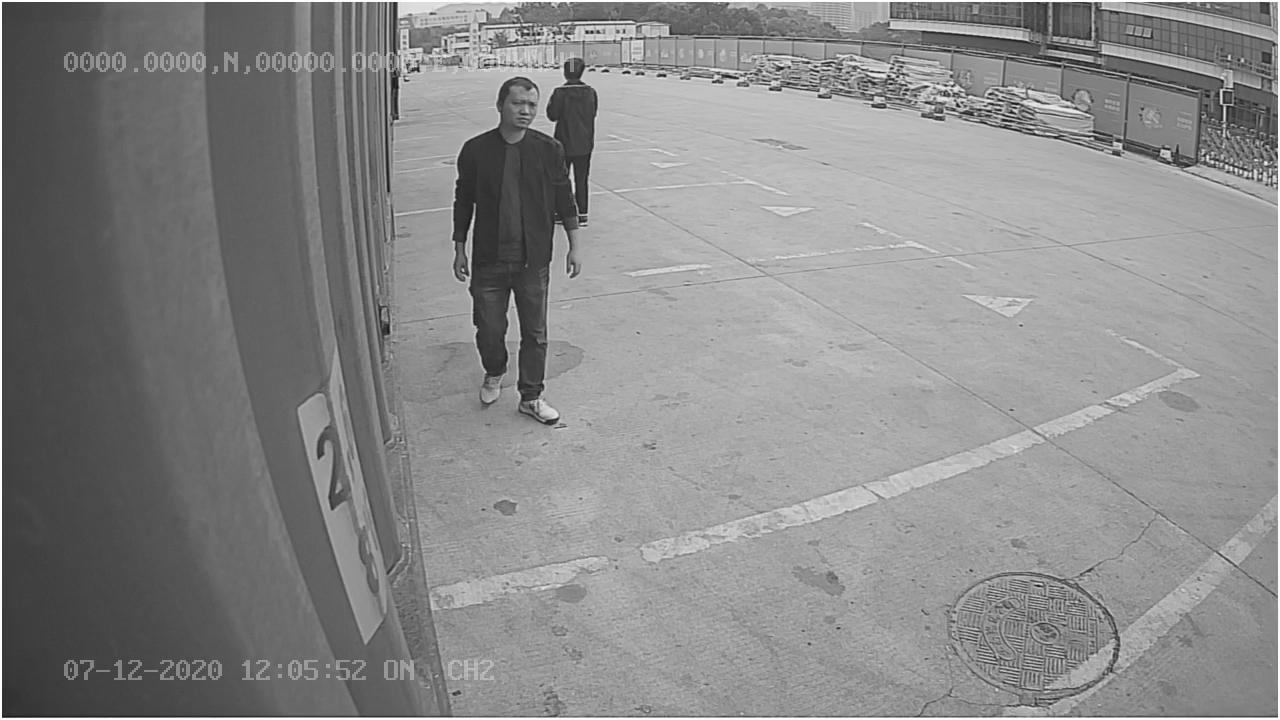person: (452, 77, 582, 425)
